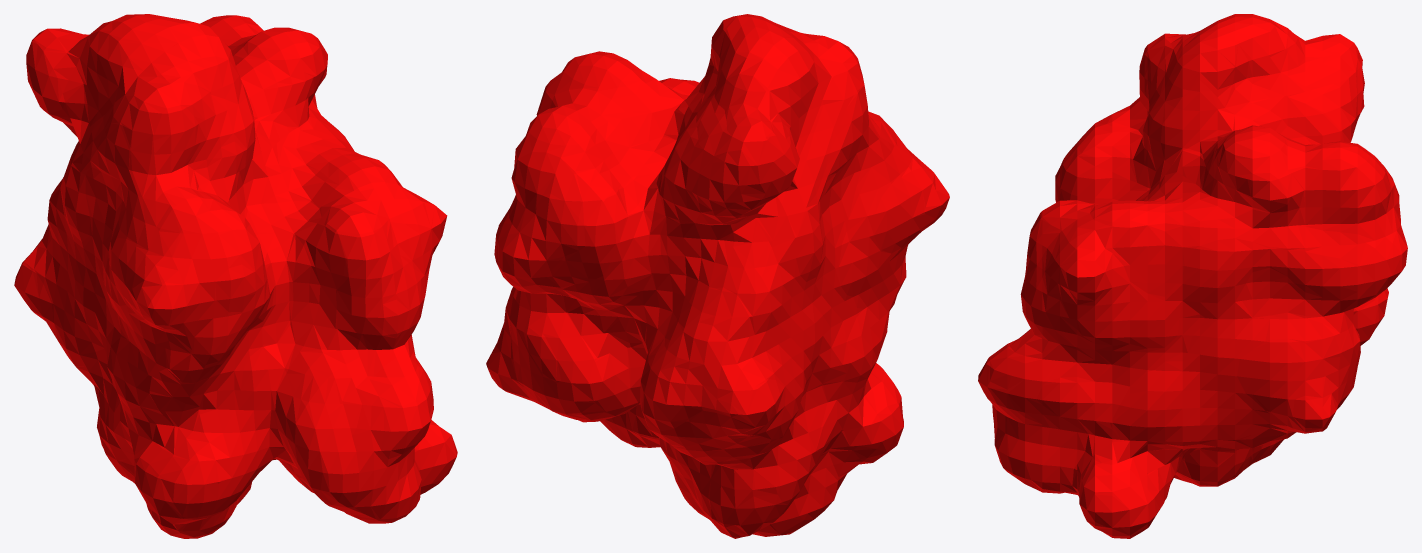
Rendered from secB_coarse.dae.
3 renders of one model, left to right at view 1: azimuth 30°, elevation 25°; view 2: azimuth 150°, elevation 25°; view 3: azimuth 270°, elevation 25°, orthographic. The views are drawn at different scales.
Visible parts, largest first — view 1: secB; view 2: secB; view 3: secB.
Boxes of the visible parts, box(x1,y1,x2,y2) form: secB: box(14, 14, 457, 538); secB: box(486, 14, 949, 538); secB: box(978, 14, 1407, 538).
Size of the model in its own units: 53.89 by 79.51 by 68.56.
